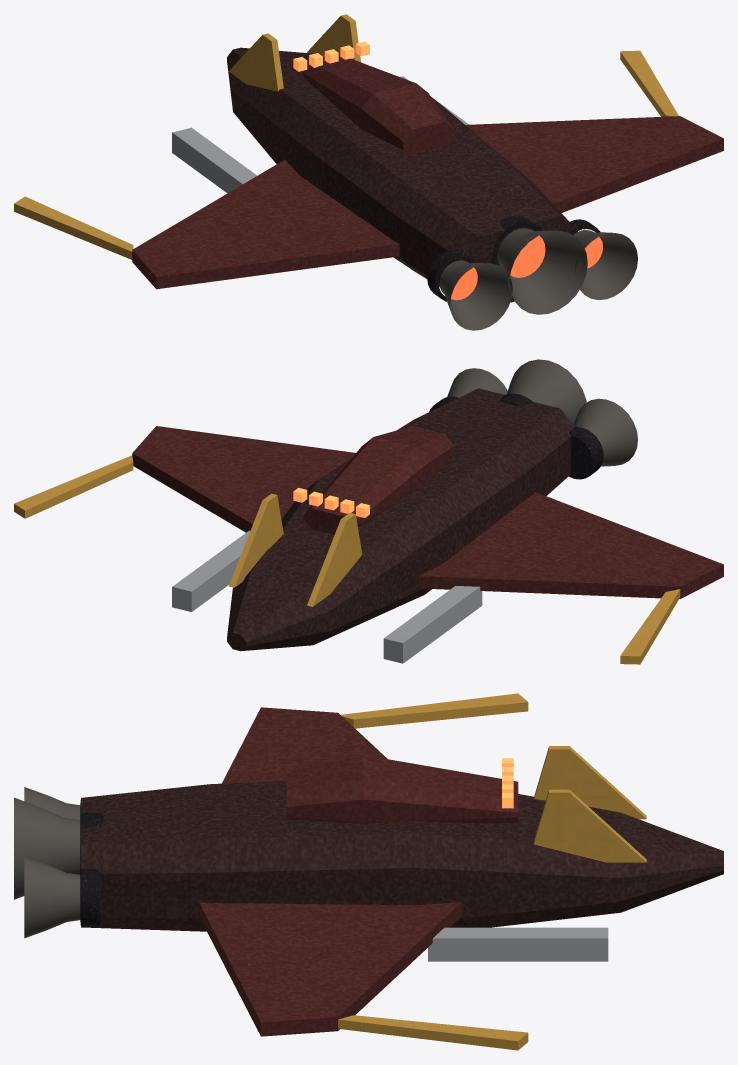
The model's file is game-warden.glb.
The picture shows the model from 3 angles, top to bottom: view 1: azimuth 30°, elevation 25°; view 2: azimuth 150°, elevation 25°; view 3: azimuth 270°, elevation 25°; orthographic projection. The views are drawn at different scales.
Parts seen in each view (by area): view 1: warden; view 2: warden; view 3: warden.
Boxes of the visible parts, x1=… form: warden: x1=14, y1=14, x2=723, y2=330; warden: x1=14, y1=359, x2=723, y2=664; warden: x1=14, y1=693, x2=723, y2=1050.
Size of the model in its own units: 32 by 6 by 27.6.
Materials: 4 (2 with a texture image).
